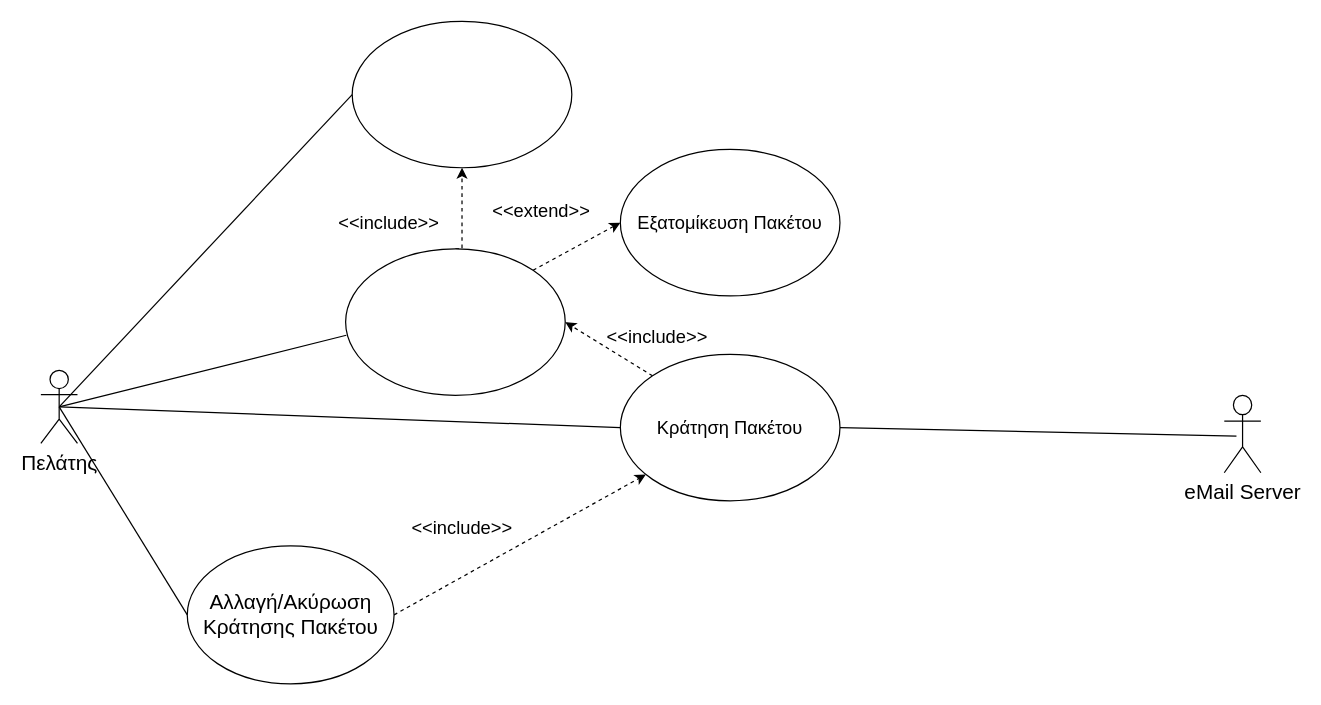
This 1321x705 diagram has some shape labels left out. The box of each missing label's shape, as (x1, y1, x2, y2) in pixels:
Επιλογή Πακέτου: (344, 248, 565, 395)
Επιλογή Ταξιδιού: (351, 20, 572, 168)
